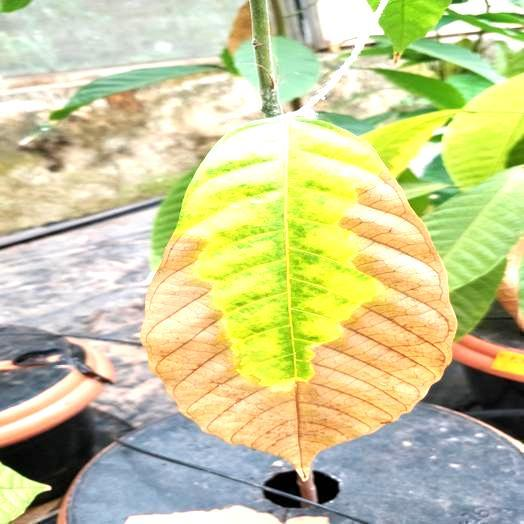Potassium: (142, 113, 456, 479)
